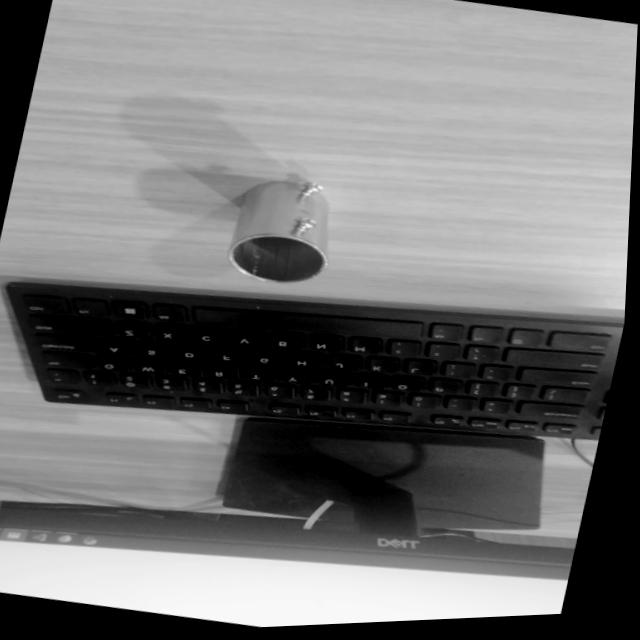Co_Lon: (227, 179, 328, 282)
